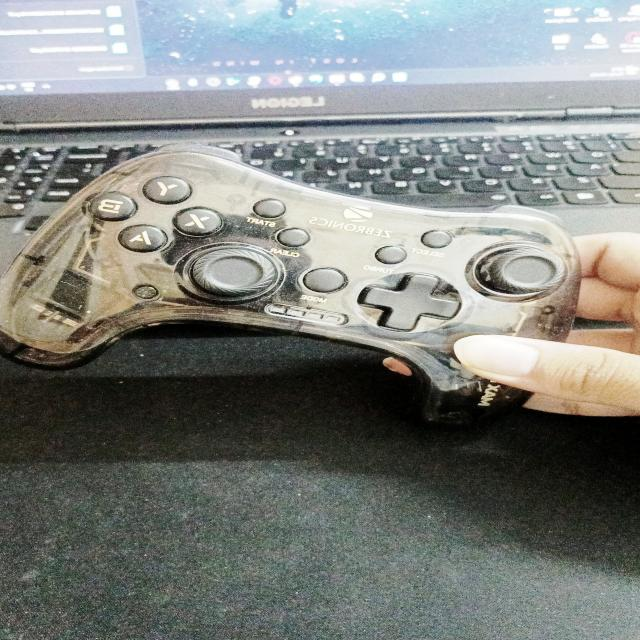gamepad: (0, 143, 584, 427)
